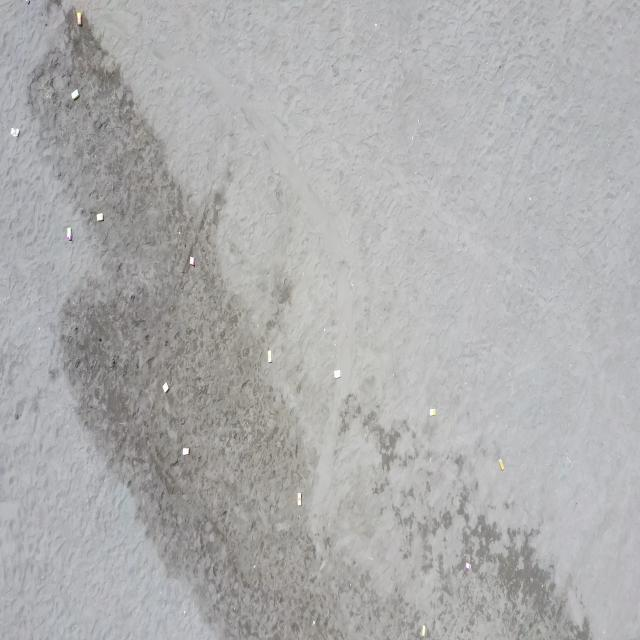Garbage: (497, 457, 504, 470), (65, 227, 71, 240), (464, 560, 471, 571), (75, 11, 80, 26), (11, 127, 19, 136), (420, 624, 426, 636), (188, 256, 195, 266), (71, 88, 77, 99), (161, 382, 167, 392), (267, 348, 271, 362), (181, 447, 188, 455), (296, 492, 300, 506), (96, 212, 103, 220), (428, 407, 435, 415), (333, 369, 340, 376), (24, 0, 28, 4), (312, 619, 315, 624)
